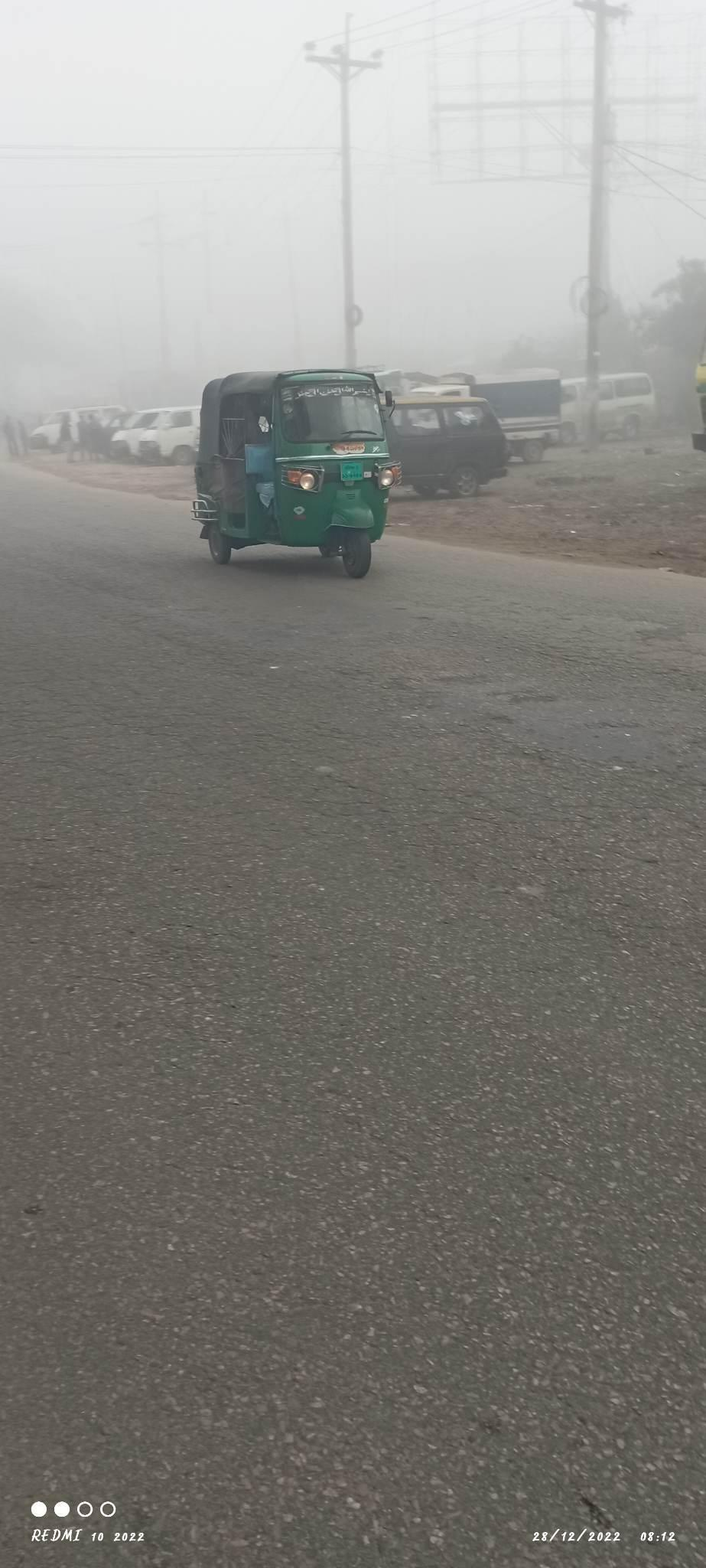Car: (380, 384, 551, 517), (109, 393, 240, 479)
